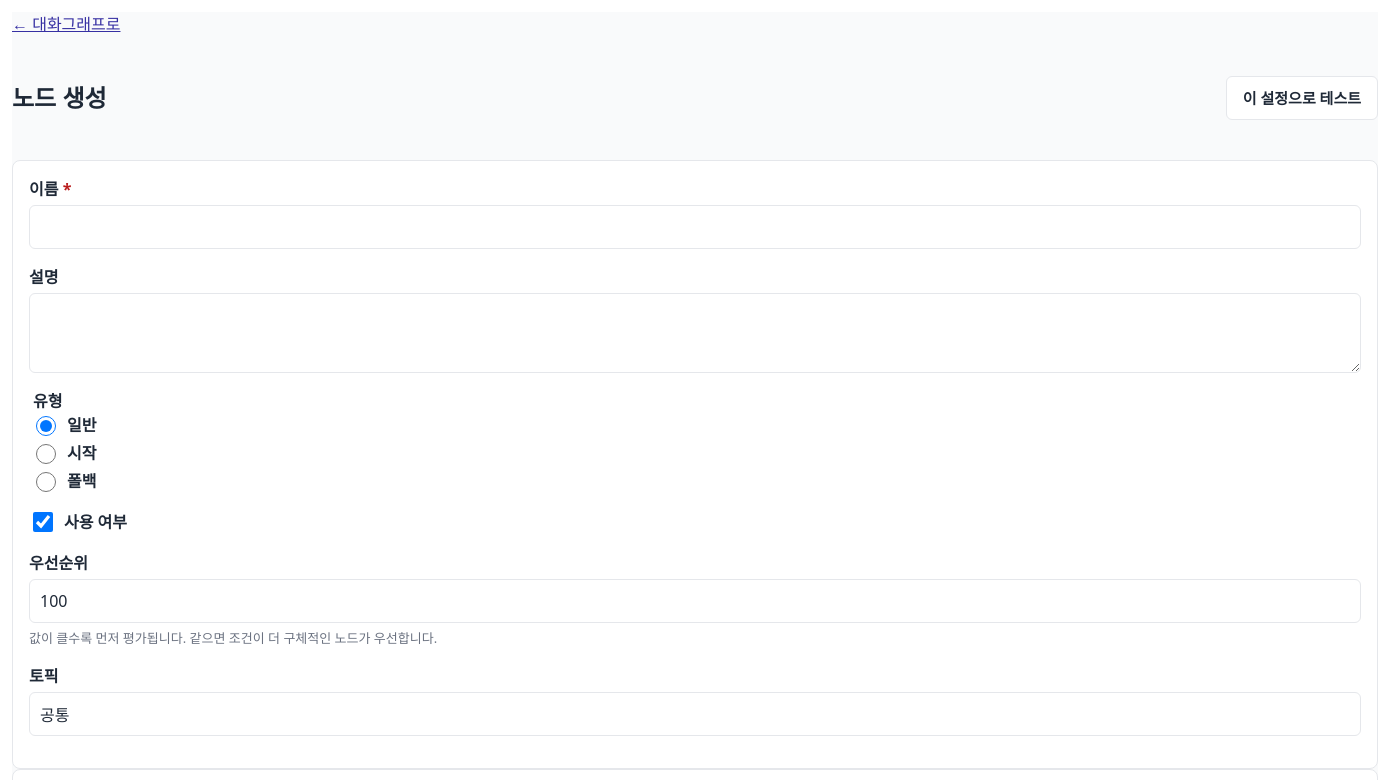
it: NodeFormPage — 토픽 선택 필드 / 시작·폴백 잠금 › 유형을 폴백(FALLBACK)으로 바꿔도 같은 고정 안내가 보인다
The width and height of the screenshot is (1390, 780).
Expected: the dropdown labelled "토픽" is shown, [29,692,1361,736]
Click the radio button labelled "폴백".
click(46, 482)  # box [36,472,56,492]
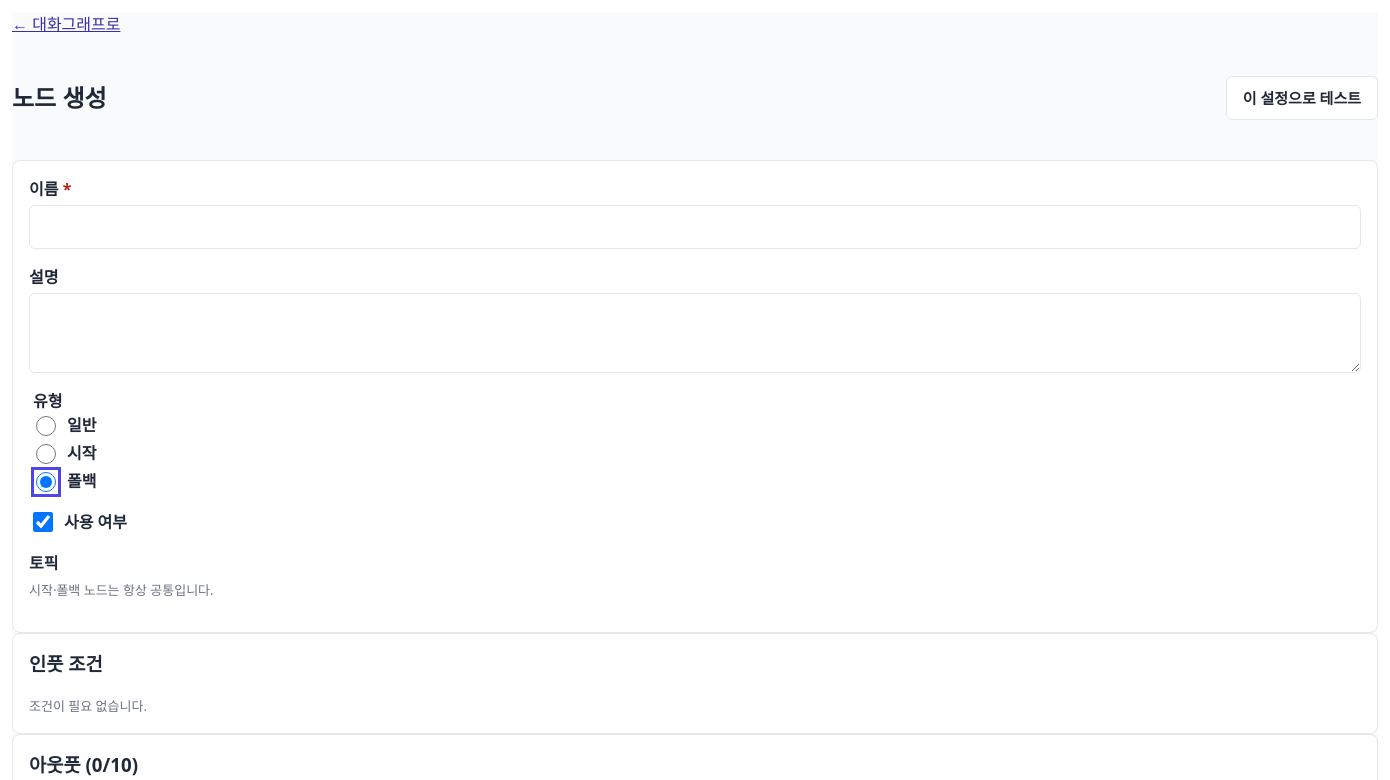
Expected: the text "시작·폴백 노드는 항상 공통입니다." is shown, [29,581,214,599]
